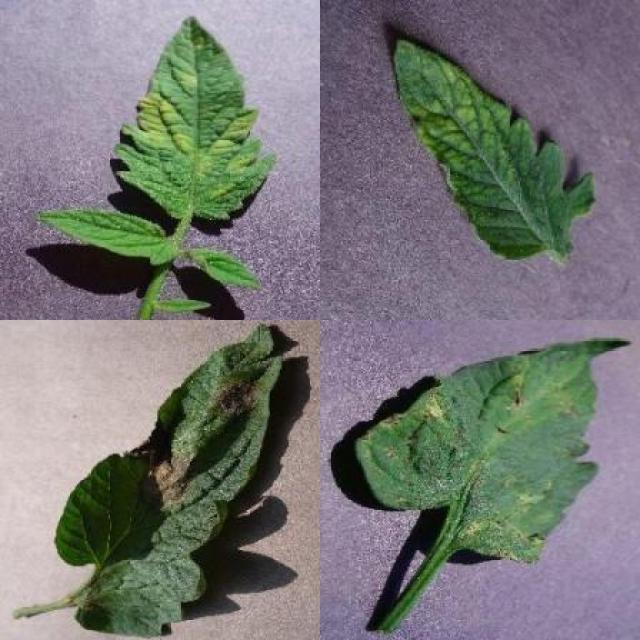Healthy: (40, 207, 169, 263)
Late Blight: (54, 321, 282, 640)
Leaf Mold: (112, 12, 278, 221)
Mosaic Virus: (394, 36, 599, 260)
Septoria: (352, 334, 632, 566)
